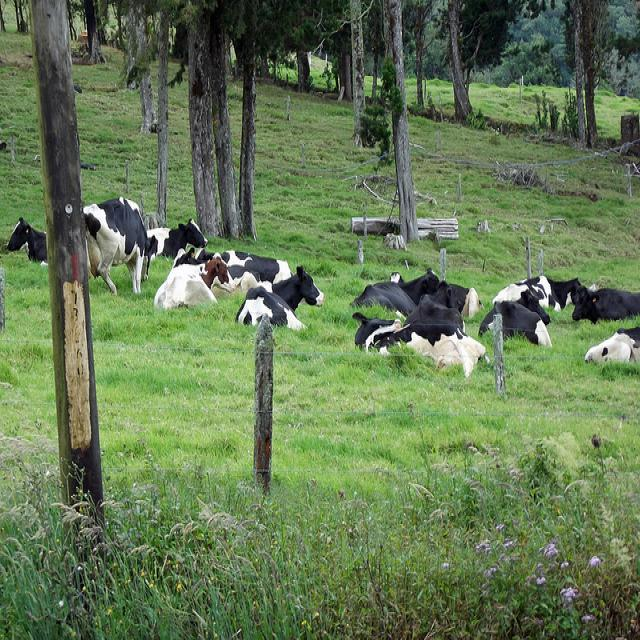cow: (349, 267, 462, 349), (361, 311, 483, 376), (80, 192, 159, 292), (235, 261, 320, 328), (152, 246, 237, 306), (193, 245, 292, 291), (480, 288, 551, 348), (493, 272, 580, 308), (570, 283, 639, 323), (146, 214, 207, 258), (582, 327, 639, 364), (4, 215, 46, 264), (405, 292, 462, 328), (447, 280, 483, 317)
